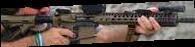gun: (1, 0, 195, 47)
